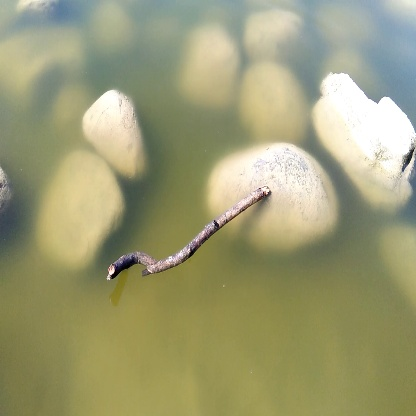branch: (110, 187, 271, 294)
